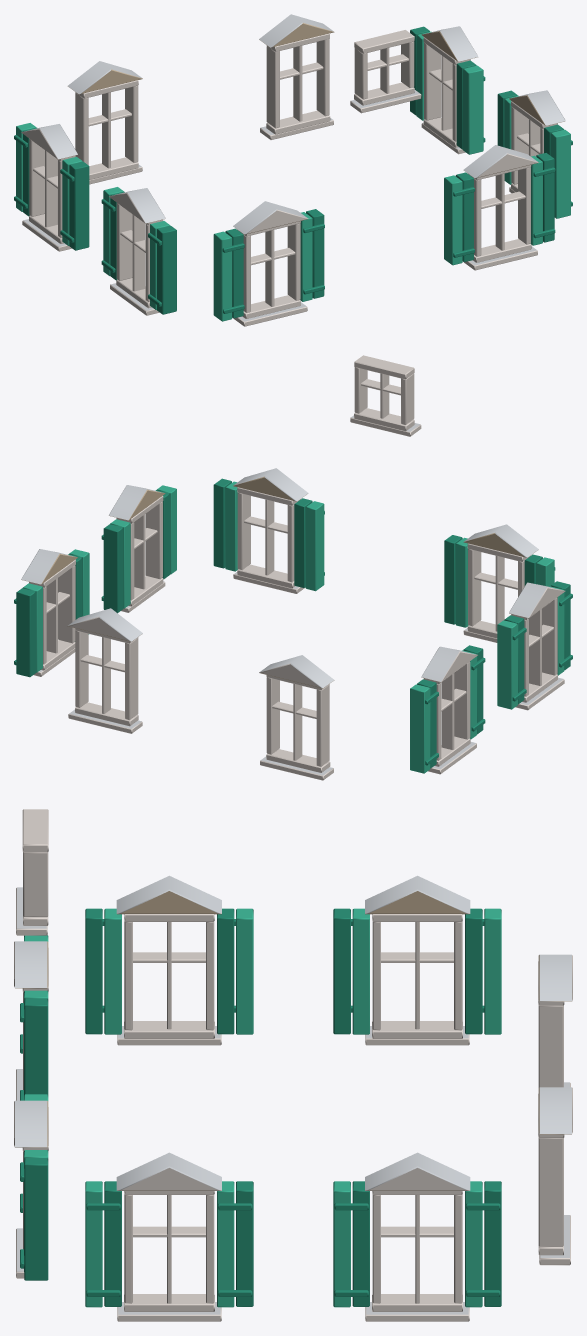
Rendered from CandyHouse_Pink_Trim.glb.
3 views of the same model, one above another, from view 1: azimuth 30°, elevation 25°; view 2: azimuth 150°, elevation 25°; view 3: azimuth 270°, elevation 25° (orthographic). The views are drawn at different scales.
Parts seen in each view (by area): view 1: CandyHouse_Pink_Trim; view 2: CandyHouse_Pink_Trim; view 3: CandyHouse_Pink_Trim.
Part boxes in pixels (x1,y1,x2,y2): CandyHouse_Pink_Trim: (14, 14, 572, 326); CandyHouse_Pink_Trim: (14, 355, 572, 780); CandyHouse_Pink_Trim: (14, 809, 572, 1321).
Size of the model in its own units: 26.4 by 14.81 by 21.4.
